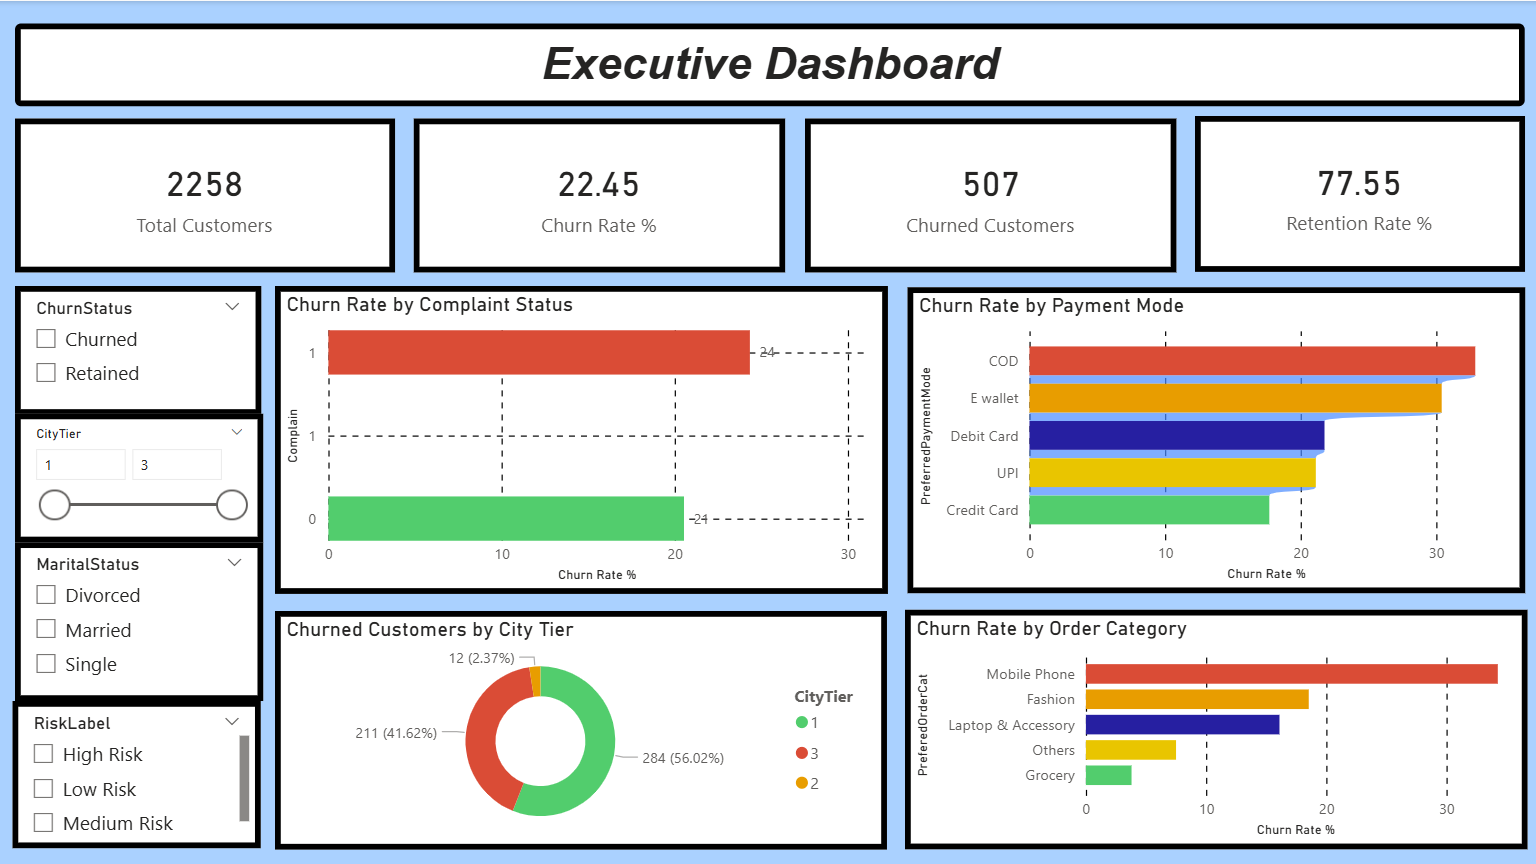

The dashboard page shown, as its layout file describes it:
{"tool":"powerbi","page":{"name":"Executive Dashboard","canvas":[1280,720],"ordinal":0},"visuals":[{"type":"card","fields":{"Values":["ecommerce.Total Customers"]},"box":[12.5,97.4,315.8,128],"z":0},{"type":"card","fields":{"Values":["ecommerce.Churn Rate %"]},"box":[343.7,97.4,308.9,128],"z":1000},{"type":"card","fields":{"Values":["ecommerce.Churned Customers"]},"box":[669.2,97.4,308.9,128],"z":2000},{"type":"card","fields":{"Values":["ecommerce.Retention Rate %"]},"box":[993.4,96,274.1,129.4],"z":3000},{"type":"clusteredBarChart","title":"Churn Rate by Complaint Status","fields":{"Category":["ecommerce.Complain"],"Y":["ecommerce.Churn Rate %"]},"box":[228.2,236.5,509.2,256],"z":4000},{"type":"barChart","title":"Churn Rate by Payment Mode","fields":{"Category":["ecommerce.PreferredPaymentMode"],"Y":["ecommerce.Churn Rate %"]},"box":[754.1,237.9,513.4,254.6],"z":5000},{"type":"barChart","title":"Churn Rate by Order Category","fields":{"Category":["ecommerce.PreferedOrderCat"],"Y":["ecommerce.Churn Rate %"]},"box":[752.7,506.4,517.6,199],"z":6000},{"type":"donutChart","title":"Churned Customers by City Tier","fields":{"Category":["ecommerce.CityTier"],"Y":["ecommerce.Churned Customers"]},"box":[228.1,506.7,509.1,198.1],"z":7000},{"type":"slicer","fields":{"Values":["ecommerce.MaritalStatus"]},"box":[12,450.3,206.5,132.1],"z":8000},{"type":"slicer","fields":{"Values":["ecommerce.ChurnStatus"]},"box":[12.5,236.5,204.5,107.1],"z":9000},{"type":"slicer","fields":{"Values":["ecommerce.CityTier"]},"box":[12,343.4,206.5,106.9],"z":10000},{"type":"slicer","fields":{"Values":["ecommerce.RiskLabel"]},"box":[10.8,582.4,206.5,122.5],"z":11000},{"type":"textbox","box":[12.3,19.2,1255.6,68.6],"z":12000}]}

Visuals, with their boxes in screenshot pixels (x1, y1, x2, y2), scaled from the page's 1280x720 canvas onto the 1536x864 screenshot:
card - ecommerce.Total Customers: detection(15, 117, 394, 270)
card - ecommerce.Churn Rate %: detection(412, 117, 783, 270)
card - ecommerce.Churned Customers: detection(803, 117, 1174, 270)
card - ecommerce.Retention Rate %: detection(1192, 115, 1521, 270)
"Churn Rate by Complaint Status" clusteredBarChart: detection(274, 284, 885, 591)
"Churn Rate by Payment Mode" barChart: detection(905, 285, 1521, 591)
"Churn Rate by Order Category" barChart: detection(903, 608, 1524, 846)
"Churned Customers by City Tier" donutChart: detection(274, 608, 885, 846)
slicer - ecommerce.MaritalStatus: detection(14, 540, 262, 699)
slicer - ecommerce.ChurnStatus: detection(15, 284, 260, 412)
slicer - ecommerce.CityTier: detection(14, 412, 262, 540)
slicer - ecommerce.RiskLabel: detection(13, 699, 261, 846)
textbox: detection(15, 23, 1521, 105)
